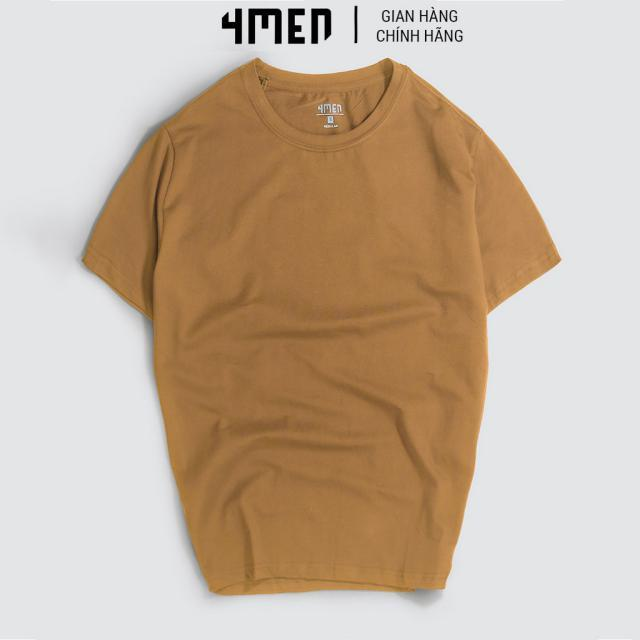Shirt: (75, 52, 576, 600)
